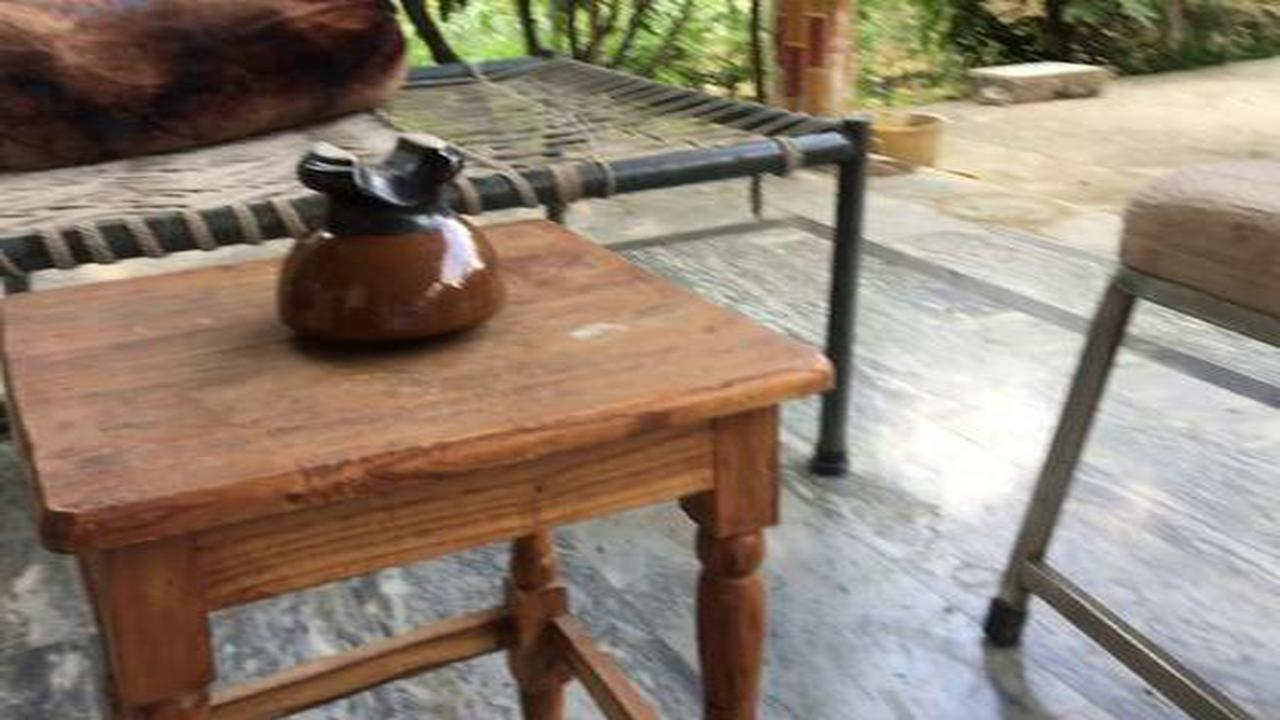insulator_pin: (256, 127, 517, 362)
